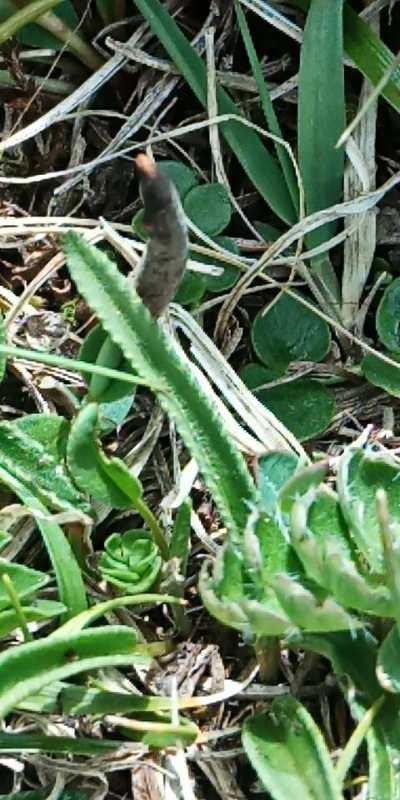Chongcao: (125, 148, 190, 319)
